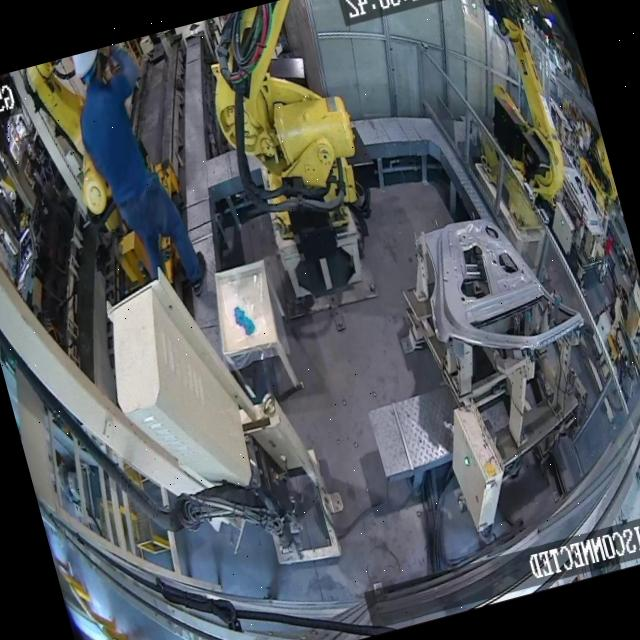Person: (60, 36, 214, 316)
